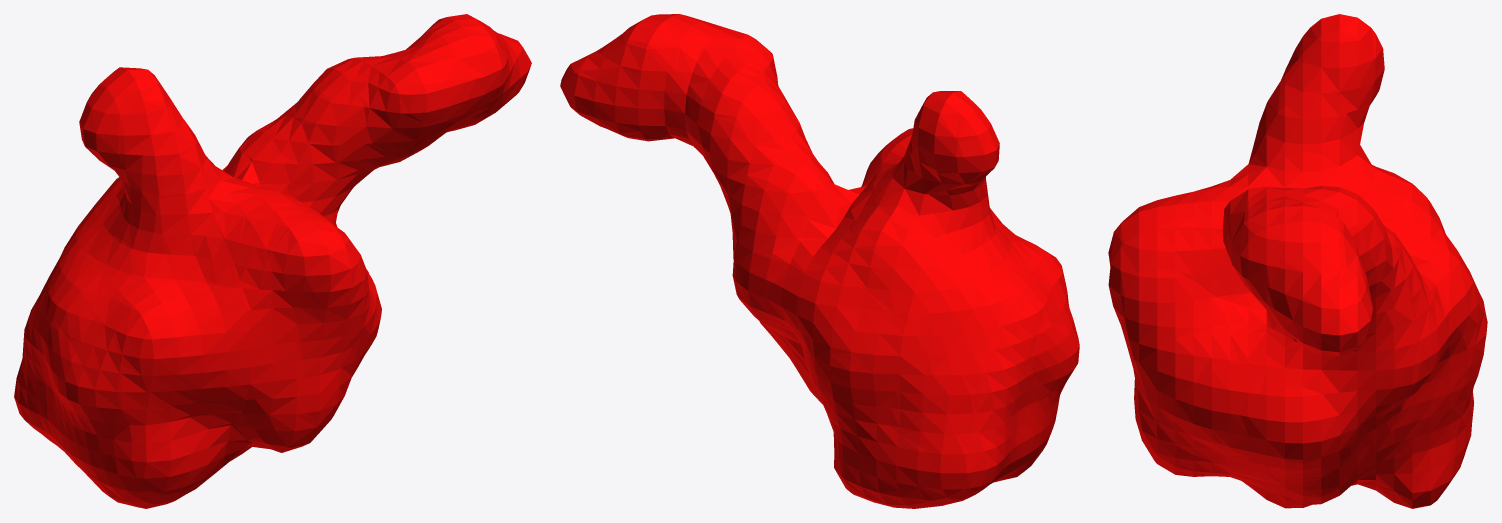
The model's file is yggU_coarse.dae.
The picture shows the model from 3 angles, left to right: view 1: azimuth 30°, elevation 25°; view 2: azimuth 150°, elevation 25°; view 3: azimuth 270°, elevation 25°; orthographic projection. The views are drawn at different scales.
Visible parts, largest first — view 1: yggU; view 2: yggU; view 3: yggU.
Part boxes in pixels (x1,y1,x2,y2): yggU: [14, 14, 531, 508]; yggU: [560, 14, 1079, 508]; yggU: [1108, 14, 1487, 508].
Size of the model in its own units: 57.7 by 45.7 by 33.34.
